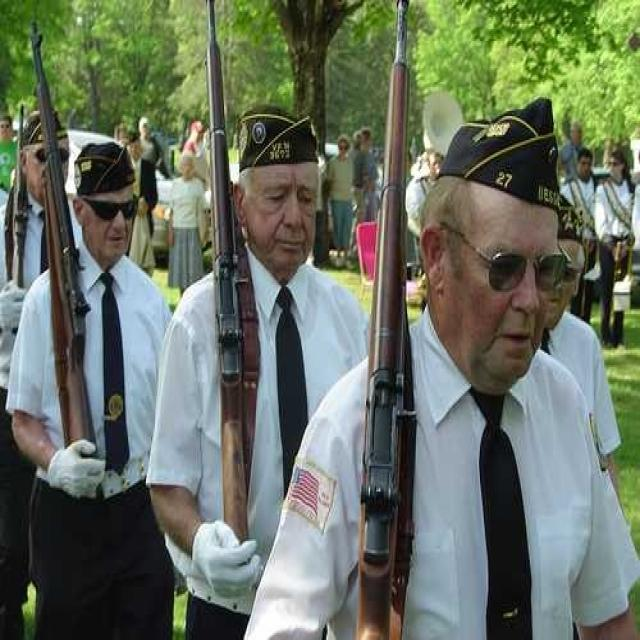heavyweapon: (10, 11, 129, 518), (347, 1, 433, 640), (202, 1, 244, 576)
